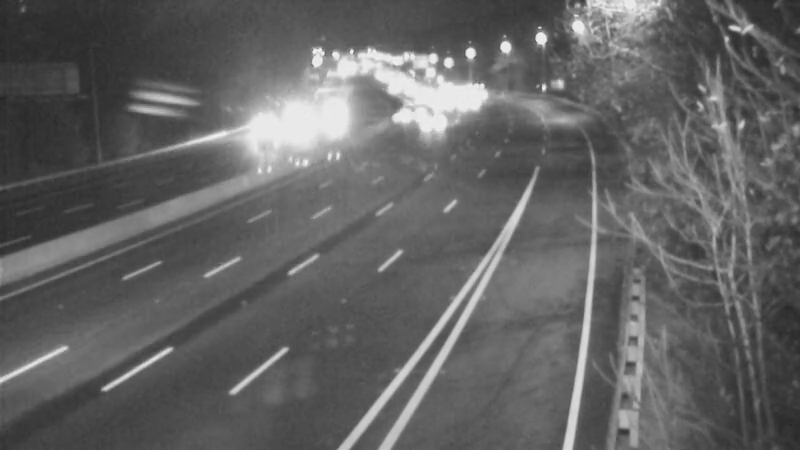vehicle: (381, 90, 431, 140), (404, 93, 454, 143), (234, 111, 284, 161), (273, 99, 323, 149)
